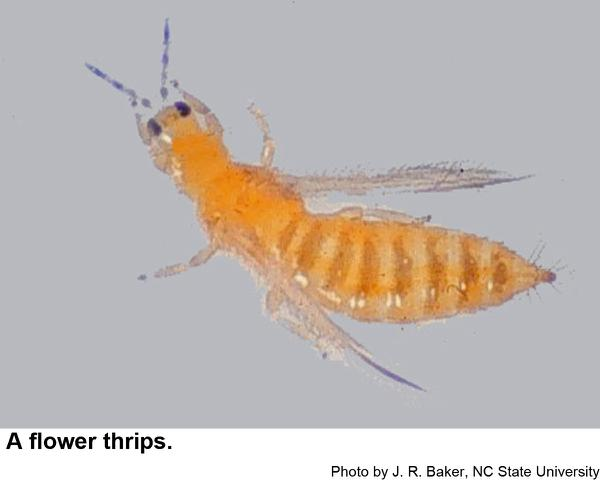Thrips: (98, 39, 558, 346)
